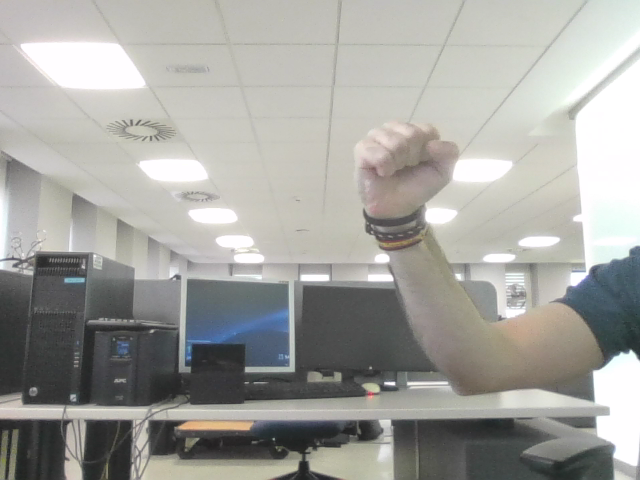Puño: (366, 131, 441, 191)
